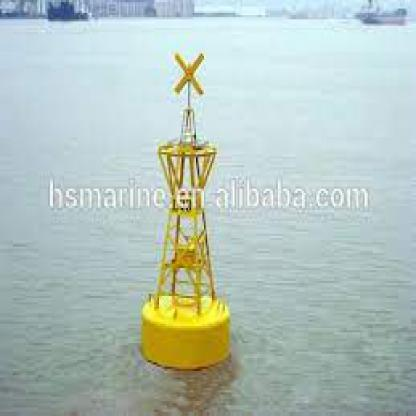buoy: (135, 43, 239, 375)
